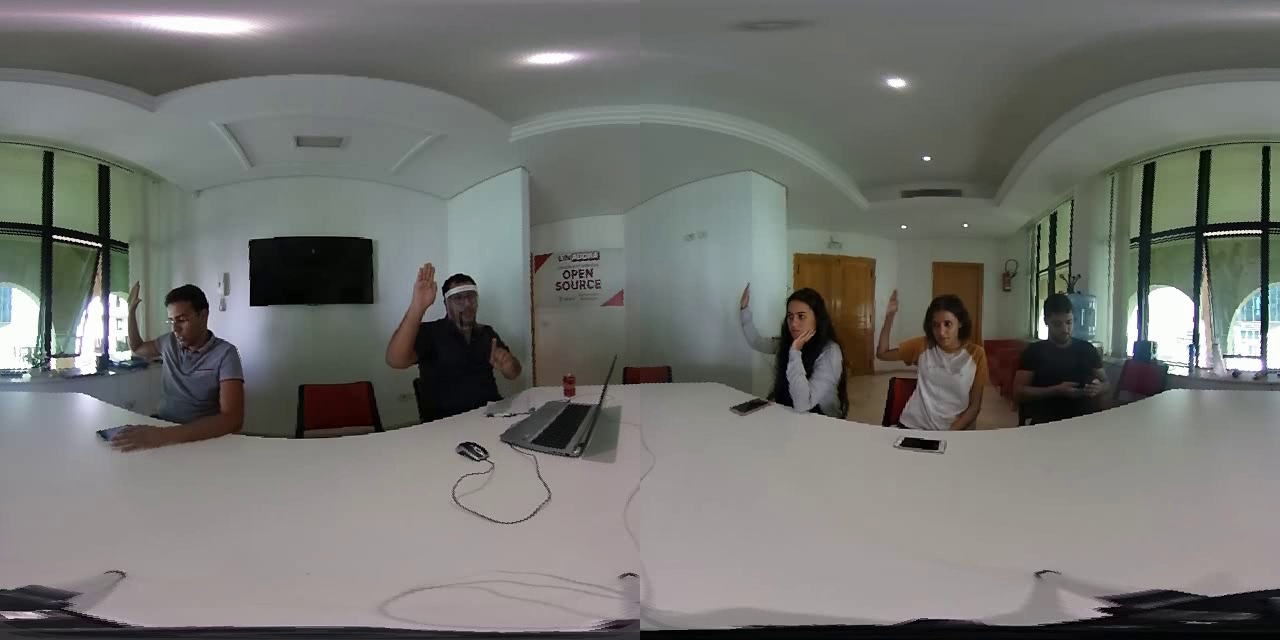person: (107, 279, 253, 437), (384, 260, 528, 412), (729, 271, 859, 421), (876, 287, 999, 432), (1006, 288, 1114, 417)
voting: (384, 259, 441, 370), (725, 273, 780, 363), (116, 281, 161, 377), (875, 290, 907, 366)
